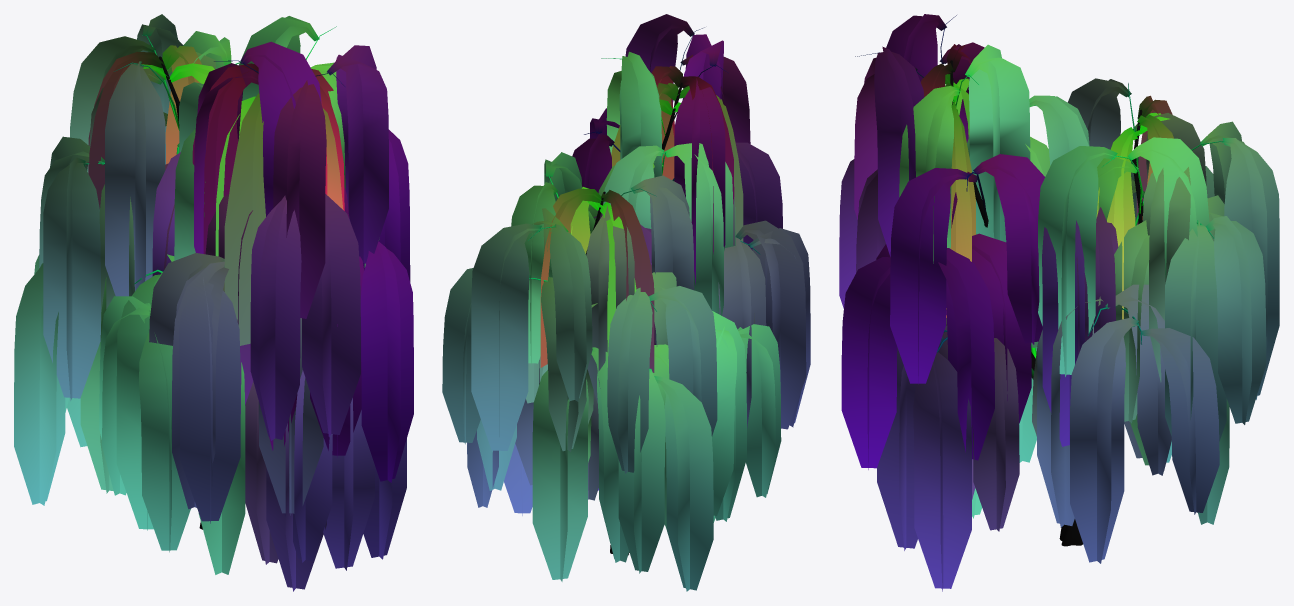
Rendered from Willow.obj.
The picture shows the model from 3 angles, left to right: view 1: azimuth 30°, elevation 25°; view 2: azimuth 150°, elevation 25°; view 3: azimuth 270°, elevation 25°; orthographic projection. The views are drawn at different scales.
Parts seen in each view (by area): view 1: bark07, willow branch; view 2: bark07, willow branch; view 3: bark07, willow branch.
Boxes of the visible parts, box(x1,y1,x2,y2) form: bark07: box(14, 14, 413, 591); willow branch: box(85, 26, 344, 529); bark07: box(442, 14, 810, 591); willow branch: box(528, 27, 760, 555); bark07: box(839, 14, 1279, 591); willow branch: box(855, 15, 1223, 546).
Size of the model in its own units: 48.38 by 91.9 by 69.77.
